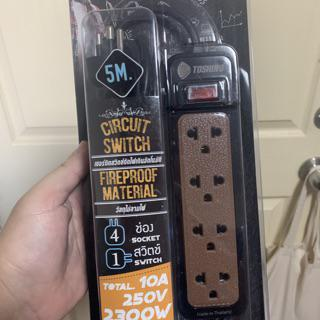Three_eye_plug: (153, 36, 256, 317)
